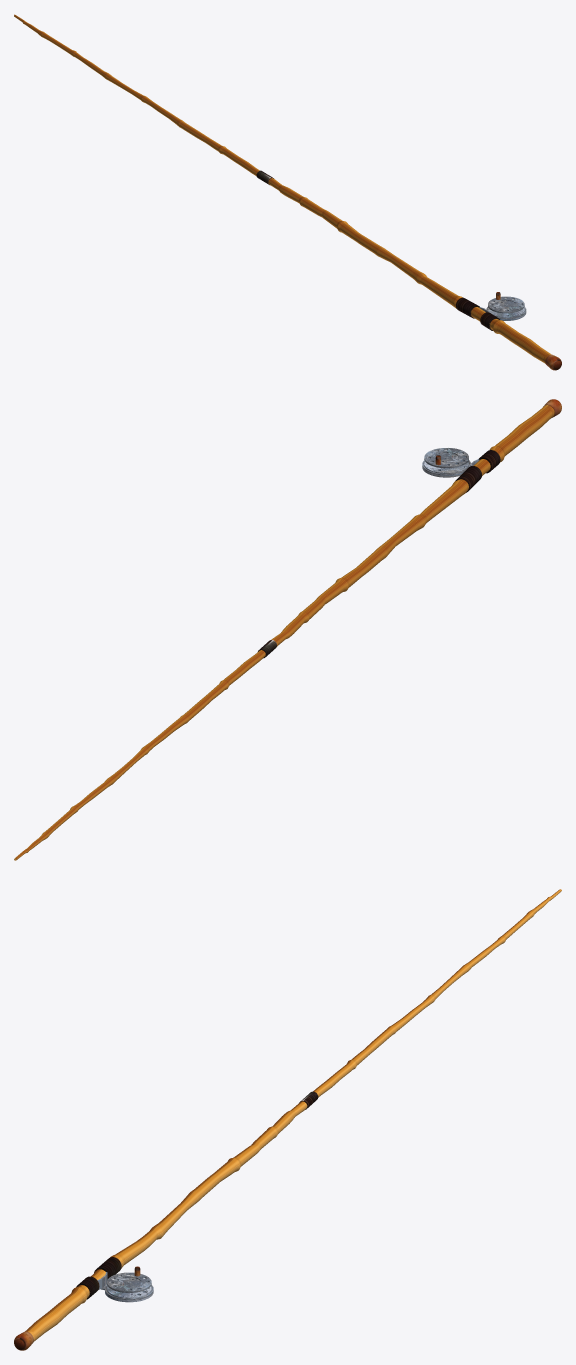
Rendered from rod.fbx.
The picture shows the model from 3 angles, top to bottom: view 1: azimuth 30°, elevation 25°; view 2: azimuth 150°, elevation 25°; view 3: azimuth 330°, elevation 25°; orthographic projection. The views are drawn at different scales.
Visible parts, largest first — view 1: часть 1, часть 2, катушка; view 2: часть 1, часть 2, катушка; view 3: часть 1, часть 2, катушка.
Part boxes in pixels (x1,y1,x2,y2): часть 1: (268,178,551,363); часть 2: (14,14,259,175); катушка: (479,292,526,320); часть 1: (271,405,554,646); часть 2: (14,650,265,860); катушка: (422,448,479,477); часть 1: (25,1101,307,1341); часть 2: (313,889,561,1097); катушка: (97,1266,153,1302).
Size of the model in its own units: 101 by 19.9 by 993.
